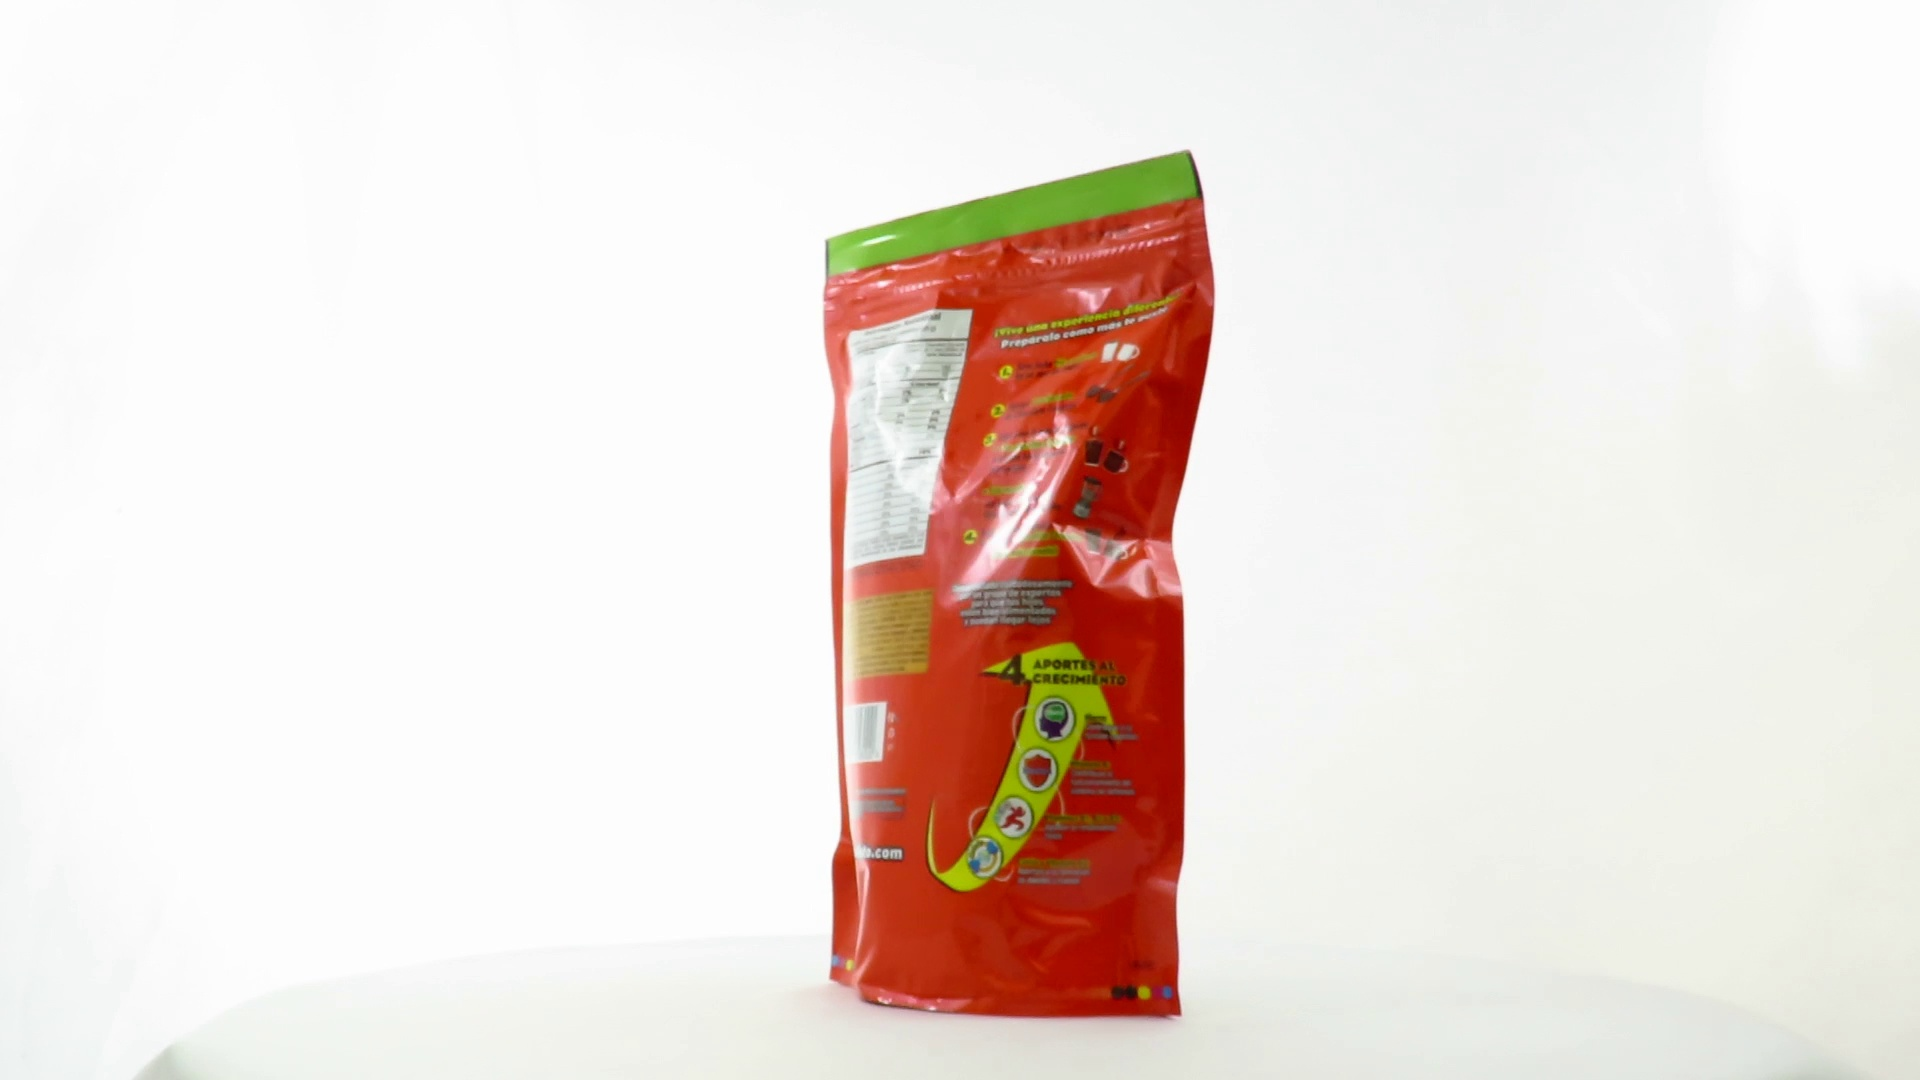COL0170102DYP50000: (818, 144, 1221, 1027)
